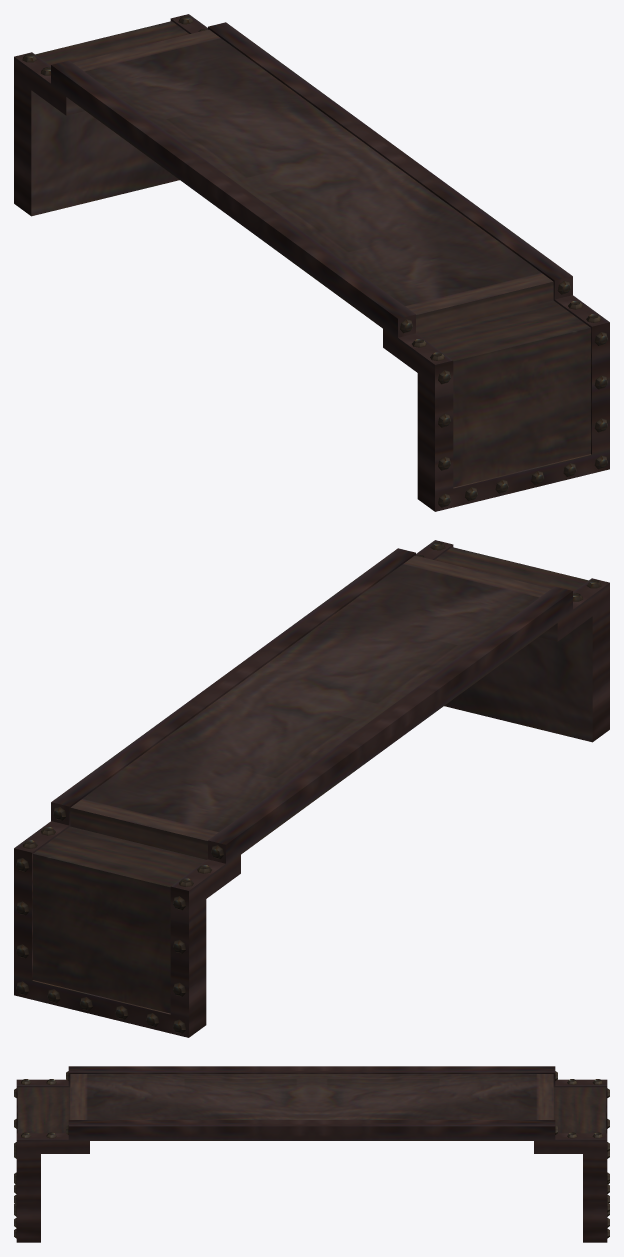
File: Epstein Desk.glb
3 renders of one model, top to bottom at view 1: azimuth 30°, elevation 25°; view 2: azimuth 150°, elevation 25°; view 3: azimuth 270°, elevation 25°, orthographic. The views are drawn at different scales.
Parts seen in each view (by area): view 1: Epsteins Desk; view 2: Epsteins Desk; view 3: Epsteins Desk.
Boxes of the visible parts, x1,y1,x2,y2 form: Epsteins Desk: [14, 14, 609, 511]; Epsteins Desk: [14, 540, 609, 1037]; Epsteins Desk: [14, 1066, 609, 1242].
Size of the model in its own units: 2.9 by 2.63 by 12.21.
1 material, 1 textured.
